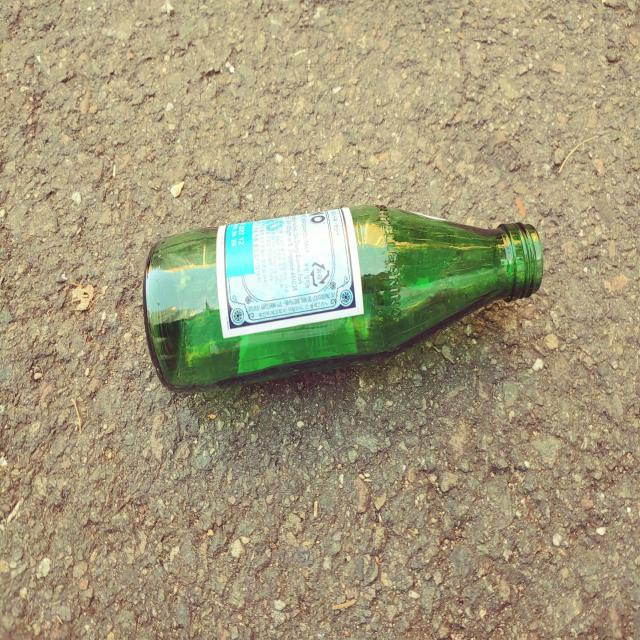glass: (143, 205, 544, 391)
